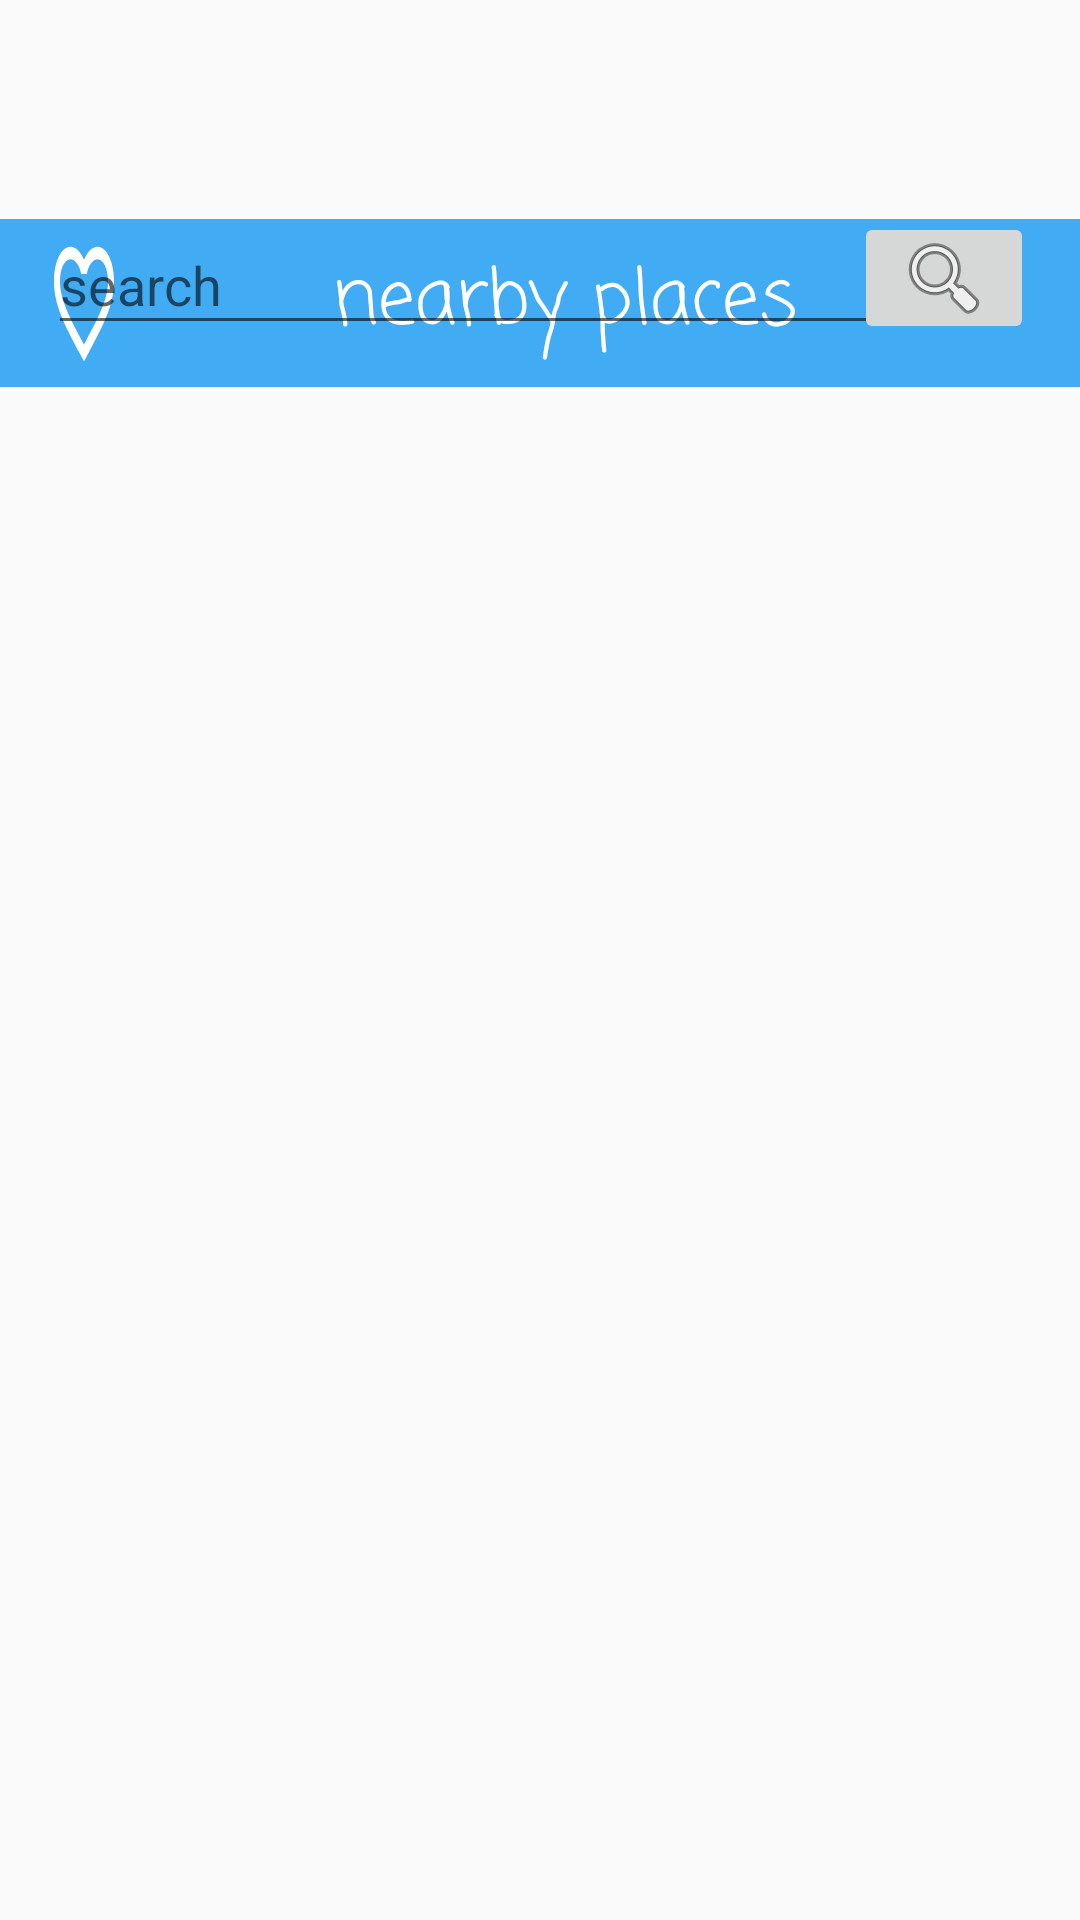

Screen size 1080*1920. Icon name, then its center in pixels as [x,y]:
favorite border: [87,303]
